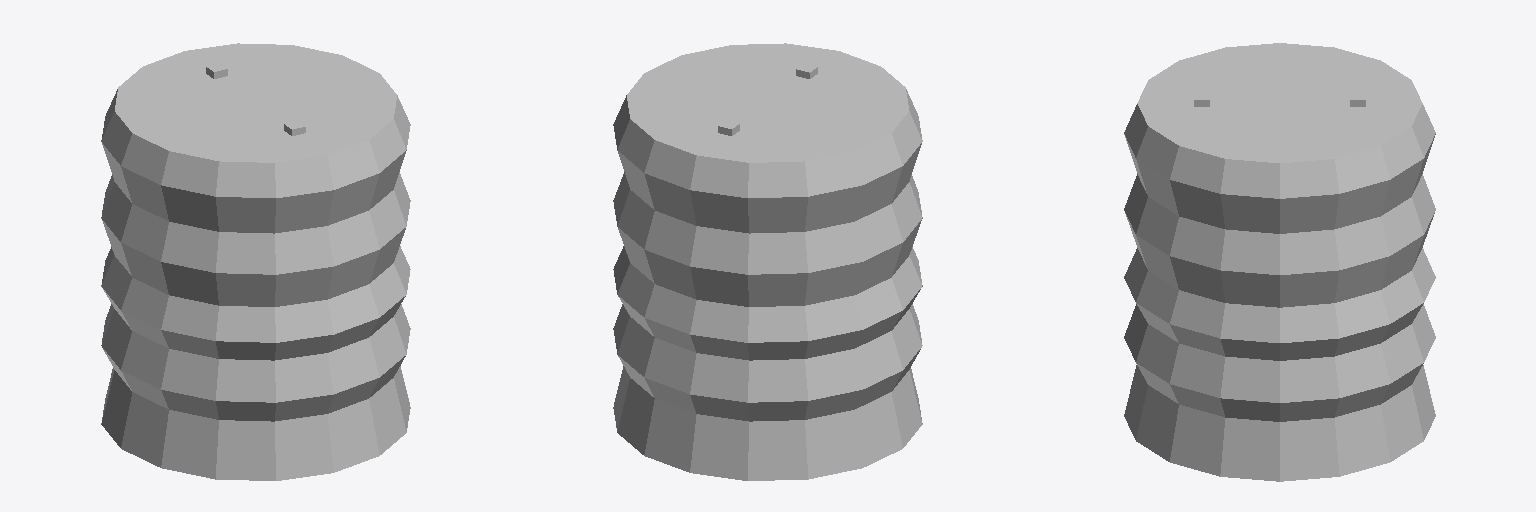
Rendered from DownLink.obj.
3 renders of one model, left to right at view 1: azimuth 30°, elevation 25°; view 2: azimuth 150°, elevation 25°; view 3: azimuth 270°, elevation 25°, orthographic.
Visible parts, largest first — view 1: main; view 2: main; view 3: main.
Boxes of the visible parts, <box> form: main: <box>101,43,410,480</box>; main: <box>613,43,922,480</box>; main: <box>1124,43,1435,481</box>.
Size of the model in its own units: 0.8 by 0.9046 by 0.8.